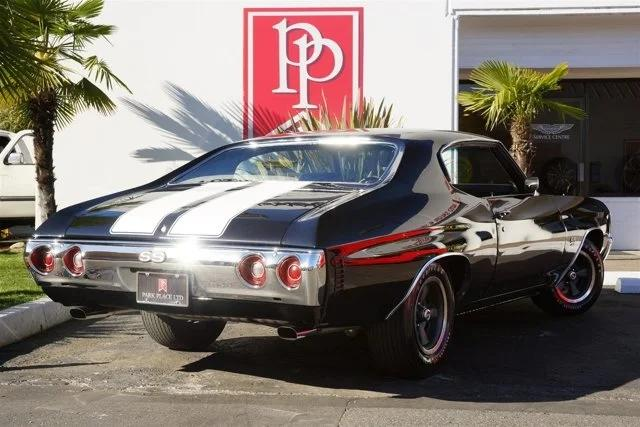chevelle-1972: (24, 128, 612, 377)
